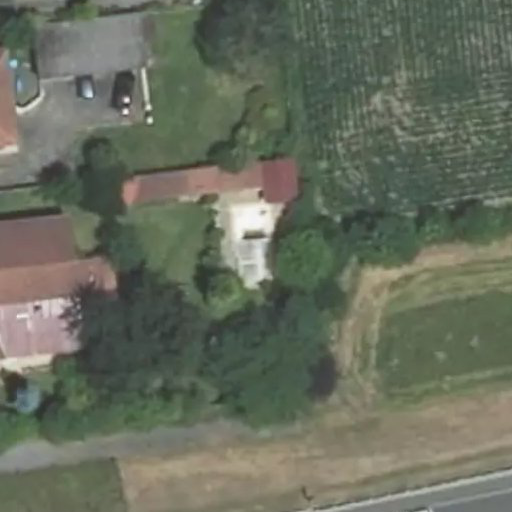pool: (236, 209, 275, 273)
